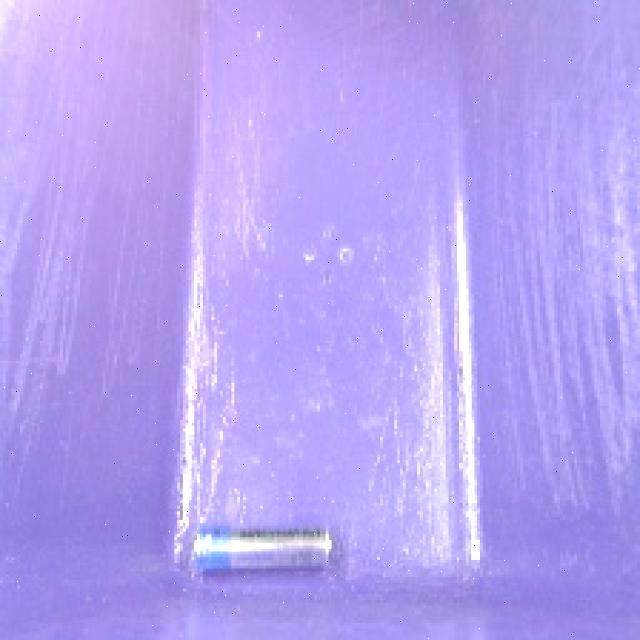battery: (186, 515, 346, 592)
